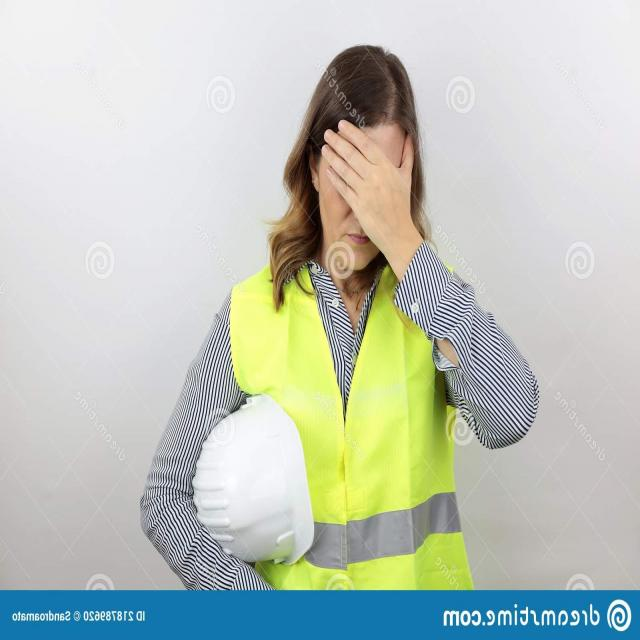Reflective-Jacket: (230, 259, 472, 585)
Safety-Helmet: (177, 381, 335, 575)
